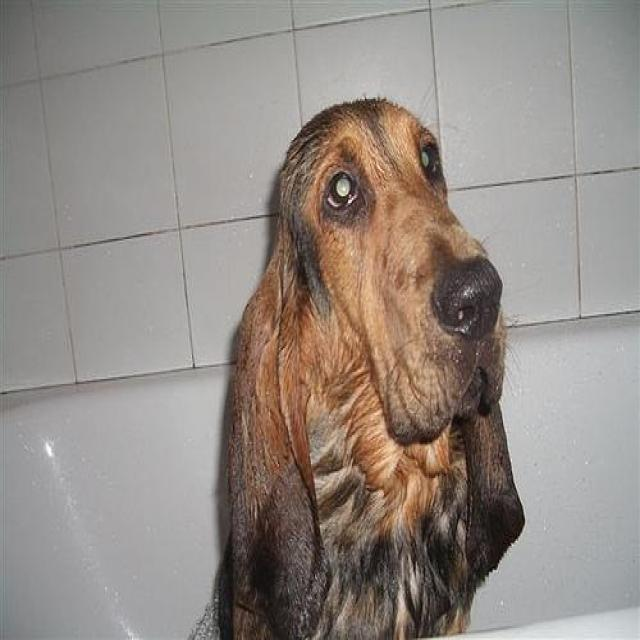bloodhound: (211, 94, 525, 636)
